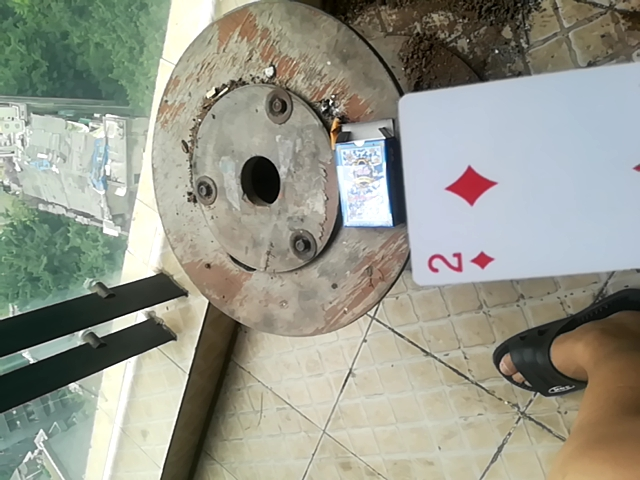fk 2: (391, 40, 637, 285)
